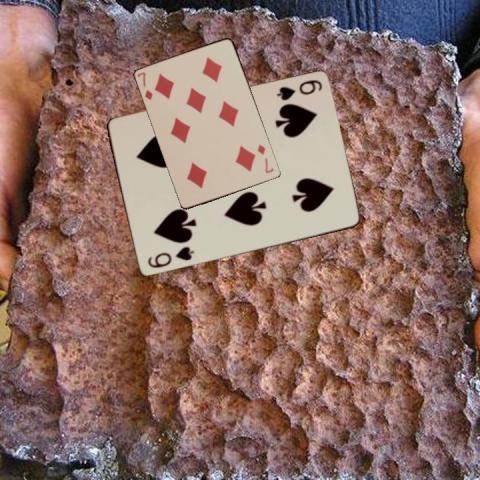6s: (273, 76, 324, 103), (144, 244, 195, 270)
7d: (255, 141, 275, 175), (135, 70, 154, 102)
